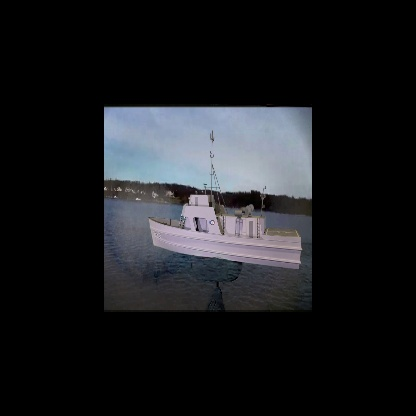YP689: (150, 133, 302, 271)
